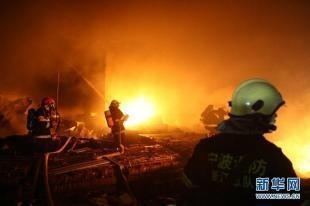fire: (117, 93, 158, 128)
